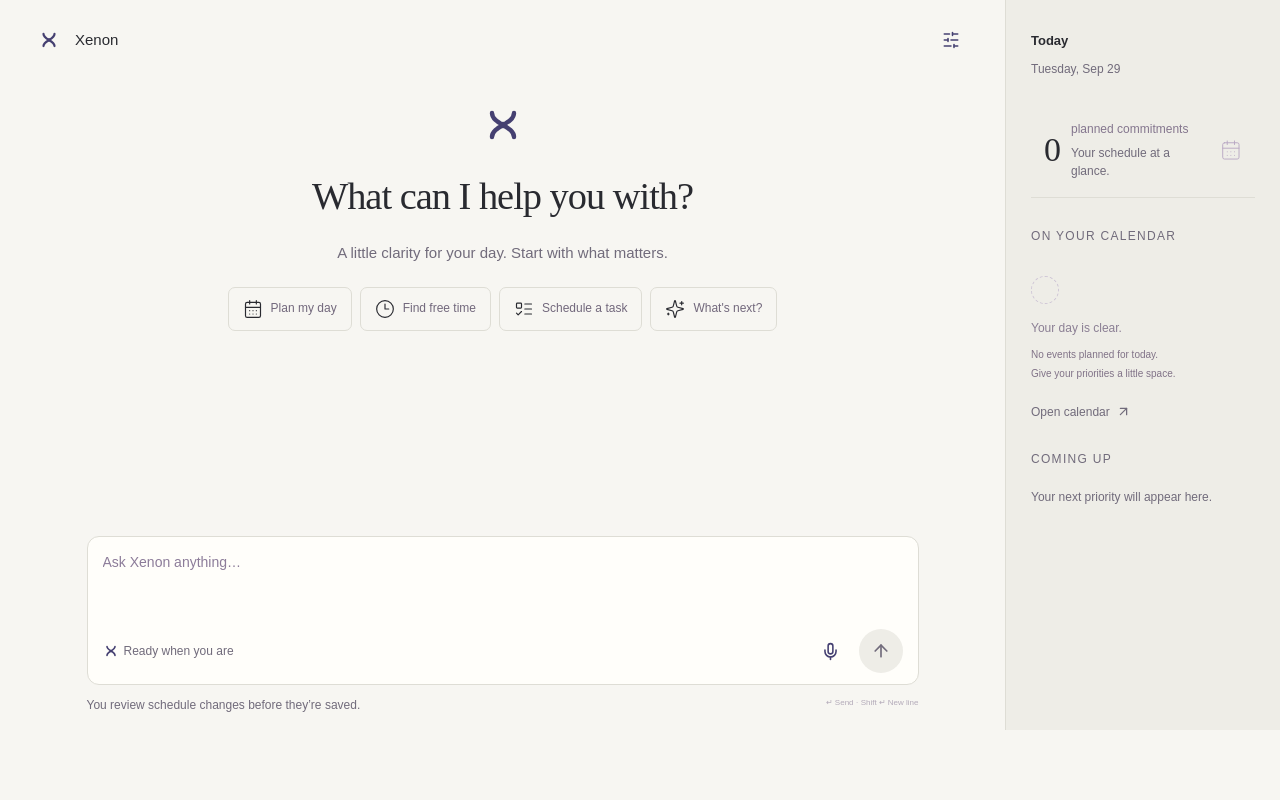
it: continues across browser session endings without replacing or duplicating speech
Expected: the heading "What can I help you with?" is shown, x1=312 y1=175 x2=693 y2=217
Step 1. Click the button named "Start voice input" → coordinates (830, 651), box x1=808 y1=629 x2=852 y2=673
Wait 300 ms
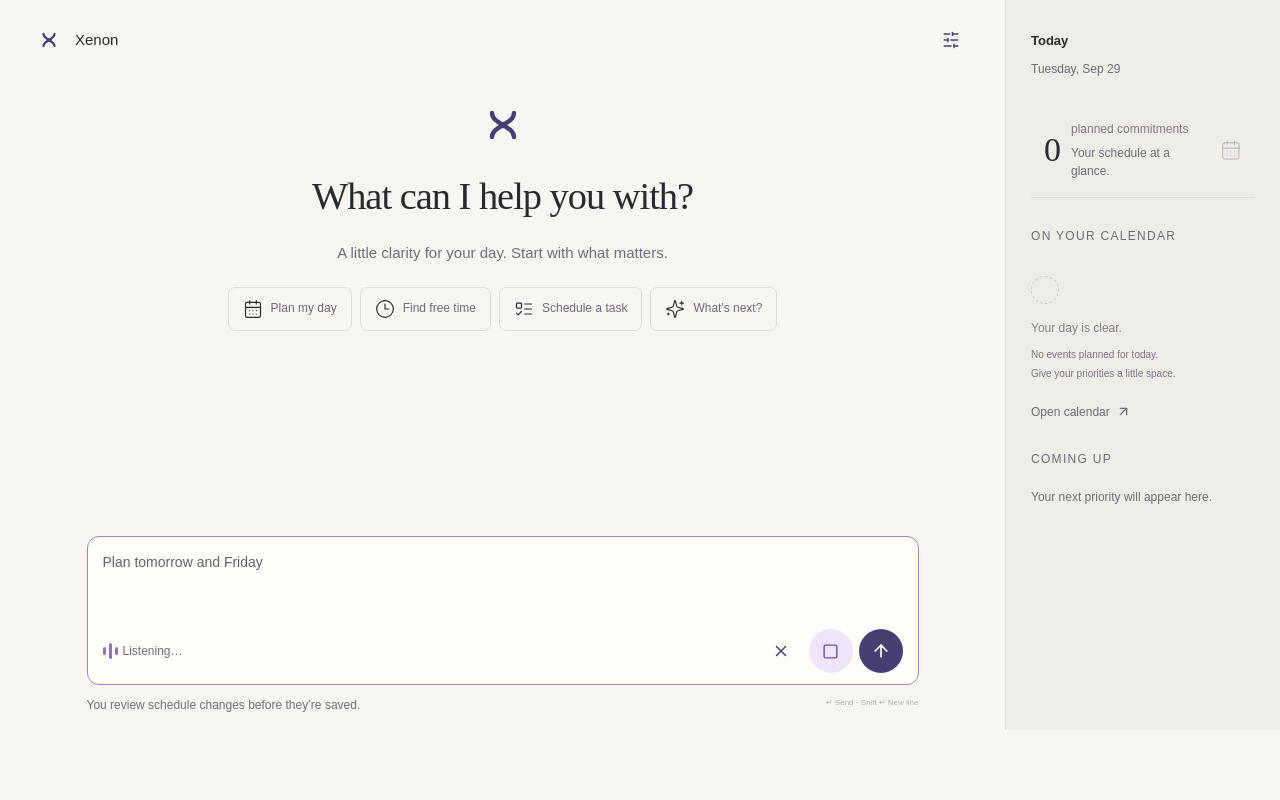
Now the button named "Stop voice input" is shown
Now the text box named "Message your assistant" holds "Plan tomorrow and Friday", box x1=102 y1=551 x2=902 y2=609
Step 2. Click the button named "Stop voice input" → coordinates (830, 651), box x1=808 y1=629 x2=852 y2=673
Wait 1000 ms
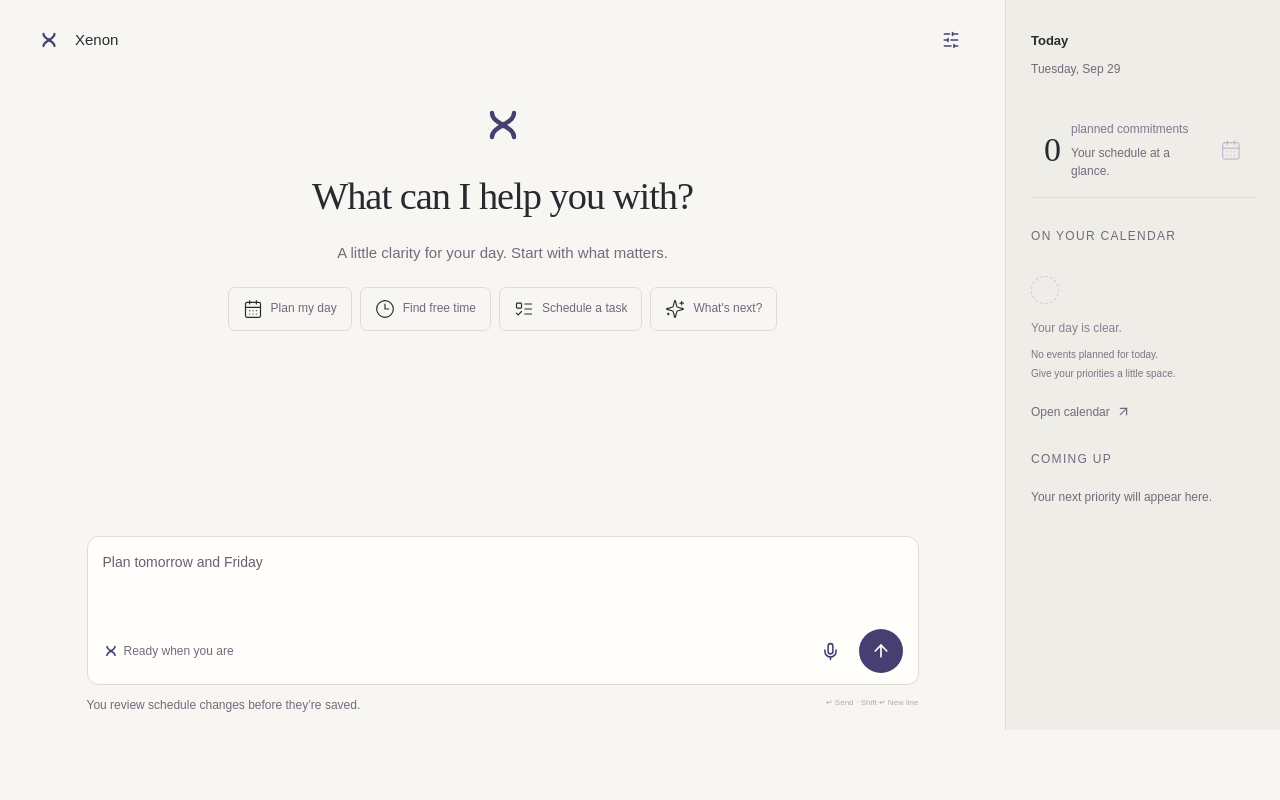
Now the button named "Start voice input" is shown, box x1=808 y1=629 x2=852 y2=673
